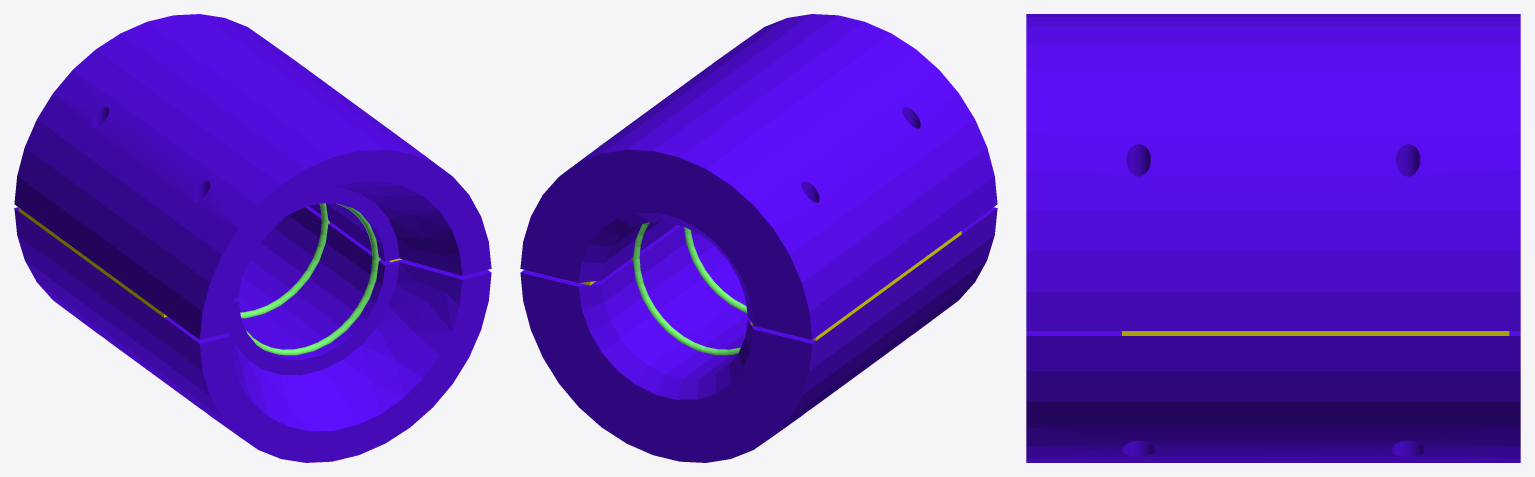
Rendered from Stroke Limiter.obj.
3 views of the same model, side by side, from view 1: azimuth 30°, elevation 25°; view 2: azimuth 150°, elevation 25°; view 3: azimuth 270°, elevation 25° (orthographic). The views are drawn at different scales.
Visible parts, largest first — view 1: b_Stroke_Limiter_Threaded_Half_001_, b_Stroke_Limiter_Cbore_Half_001_, Torus_001, b_Torus_002_001, b_Shim_001_001; view 2: b_Stroke_Limiter_Threaded_Half_001_, b_Stroke_Limiter_Cbore_Half_001_, b_Torus_002_, b_Torus_002_001, b_Shim_001_001; view 3: b_Stroke_Limiter_Threaded_Half_001_, b_Stroke_Limiter_Cbore_Half_001_, b_Shim_001_.
Part boxes in pixels (x1,y1,x2,y2): b_Stroke_Limiter_Threaded_Half_001_: [14, 14, 491, 339]; b_Stroke_Limiter_Cbore_Half_001_: [14, 206, 491, 462]; Torus_001: [246, 203, 380, 355]; b_Torus_002_001: [240, 203, 329, 318]; b_Shim_001_001: [18, 208, 167, 317]; b_Stroke_Limiter_Threaded_Half_001_: [520, 14, 997, 339]; b_Stroke_Limiter_Cbore_Half_001_: [520, 207, 997, 462]; b_Torus_002_: [631, 222, 740, 355]; b_Torus_002_001: [684, 227, 747, 313]; b_Shim_001_001: [750, 231, 961, 340]; b_Stroke_Limiter_Threaded_Half_001_: [1026, 14, 1520, 330]; b_Stroke_Limiter_Cbore_Half_001_: [1026, 331, 1520, 462]; b_Shim_001_: [1122, 331, 1509, 335].
Size of the model in its own units: 127 by 126 by 140.
